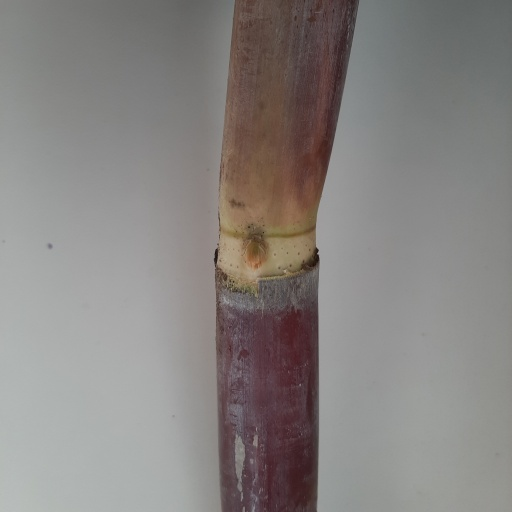Bud: (241, 236, 268, 271)
